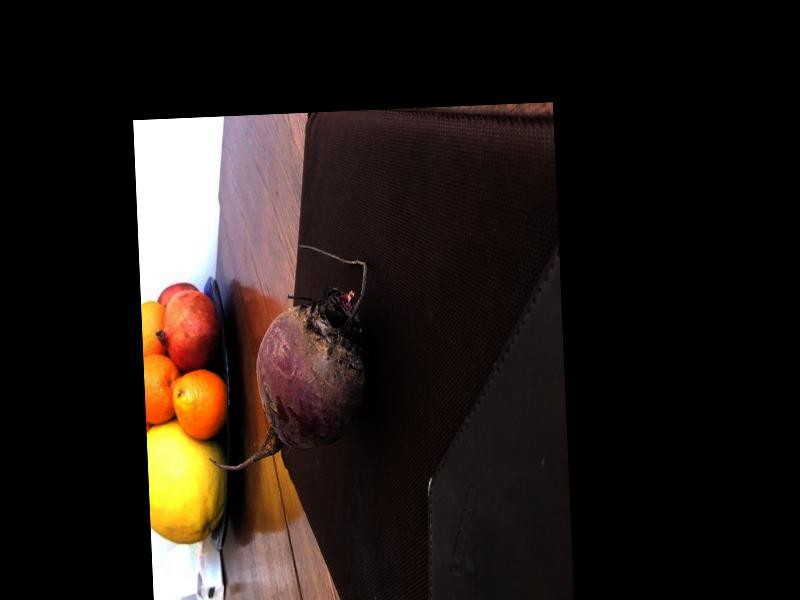Beet: (199, 241, 375, 472)
